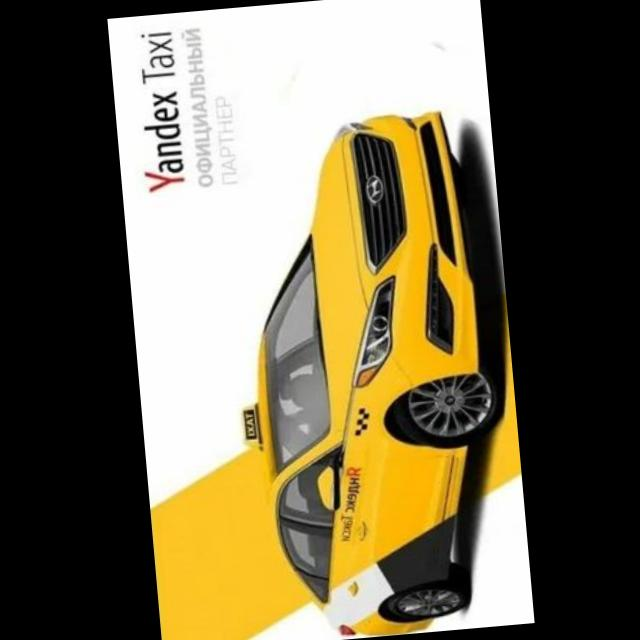taxi: (118, 107, 523, 640)
